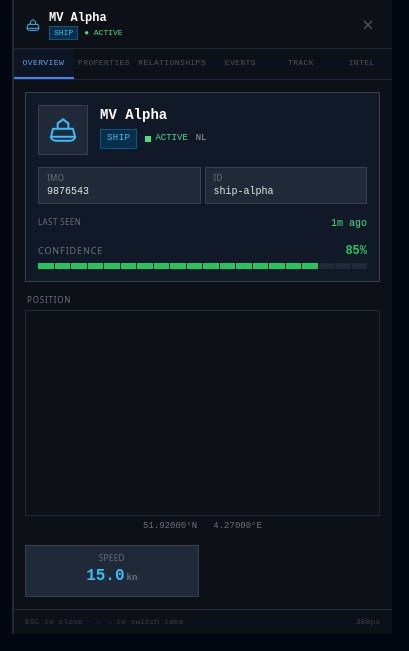
entityInspector - tab content › relationshipsTabShowsHopAndViewControls
Check: the 1st heading "MV Alpha" is shown, box [49,11,107,25]
What coordinates should you click on to do the following:
click the tab "RELATIONSHIPS"
I would click on:
 (172, 64)
Its box is [134,49,210,79].
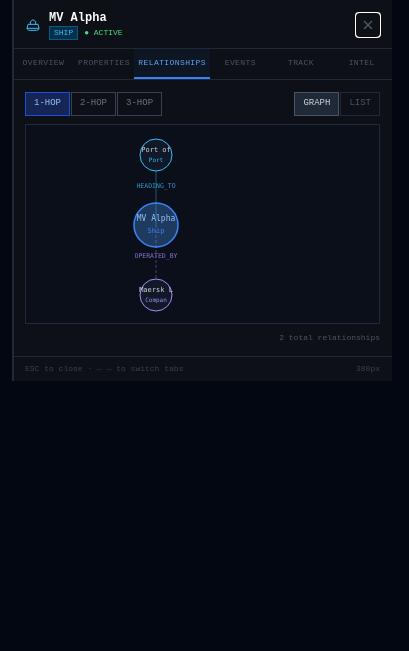
Check: the button "1-HOP" is shown, box [25,92,70,116]
Check: the button "GRAPH" is shown, box [294,92,339,116]
Check: the button "LIST" is shown, box [340,92,380,116]
